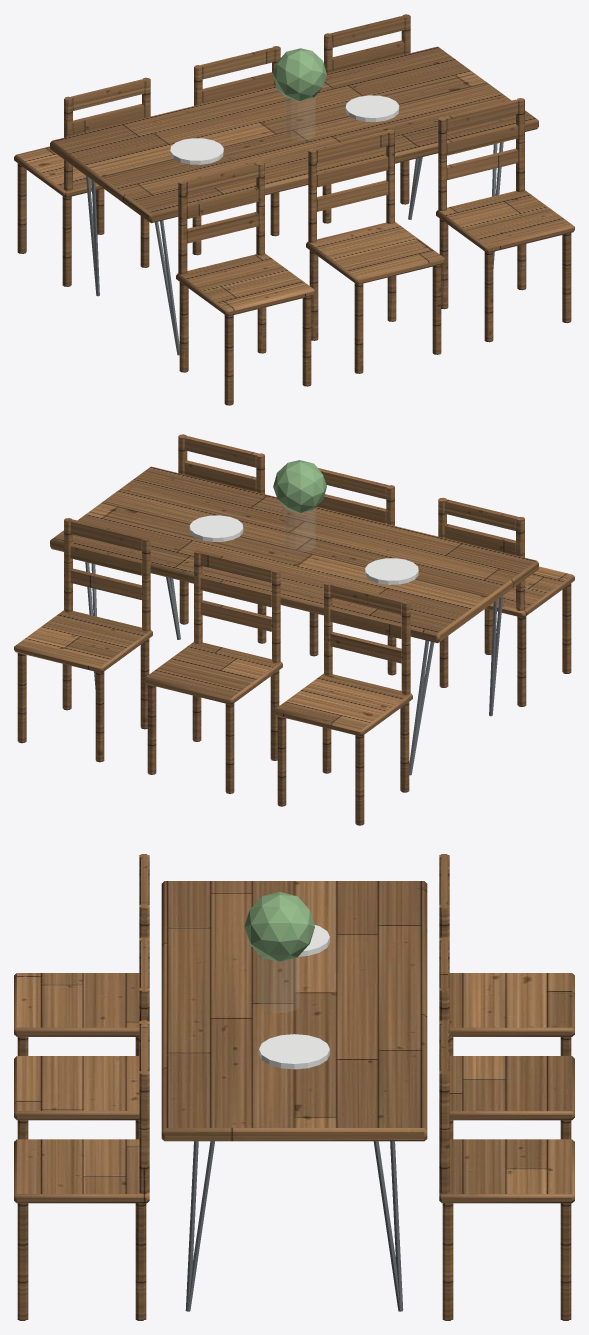
Rendered from dining.glb.
The picture shows the model from 3 angles, top to bottom: view 1: azimuth 30°, elevation 25°; view 2: azimuth 150°, elevation 25°; view 3: azimuth 270°, elevation 25°; orthographic projection. The views are drawn at different scales.
Parts seen in each view (by area): view 1: dining_timber, dining_steel_d, dining_porcelain, dining_plant, dining_glass; view 2: dining_timber, dining_steel_d, dining_porcelain, dining_plant, dining_glass; view 3: dining_timber, dining_plant, dining_steel_d, dining_porcelain, dining_glass.
Part boxes in pixels (<box>): dining_timber: <box>14,14,574,405</box>; dining_steel_d: <box>86,142,503,355</box>; dining_porcelain: <box>170,95,399,164</box>; dining_plant: <box>273,48,326,101</box>; dining_glass: <box>285,97,314,139</box>; dining_timber: <box>14,434,574,825</box>; dining_steel_d: <box>85,562,502,775</box>; dining_porcelain: <box>189,515,418,584</box>; dining_plant: <box>273,460,326,512</box>; dining_glass: <box>285,509,314,551</box>; dining_timber: <box>14,854,574,1320</box>; dining_plant: <box>244,891,314,961</box>; dining_steel_d: <box>185,1141,403,1311</box>; dining_porcelain: <box>259,925,329,1069</box>; dining_glass: <box>260,956,299,1012</box>.
Bounding box in the file's own units: 2 × 1.18 × 1.9.
5 materials, 1 textured.
